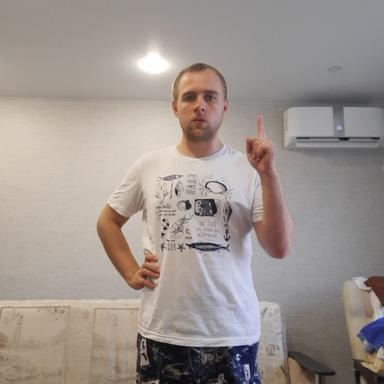one: (244, 114, 277, 174)
